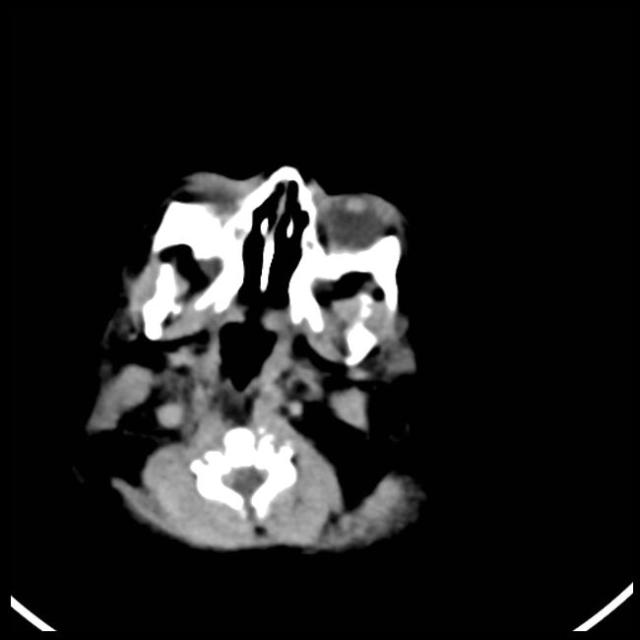lesion: (78, 159, 434, 559)
